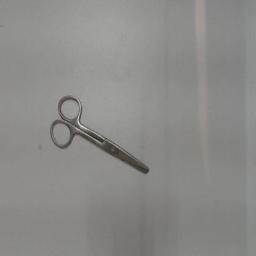Dressing Scissors: (45, 84, 155, 178)
